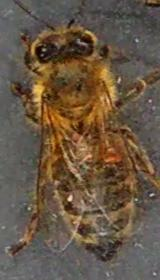varroa_mite: (94, 142, 133, 168)
